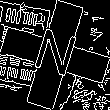N_S: (29, 25, 81, 85)
